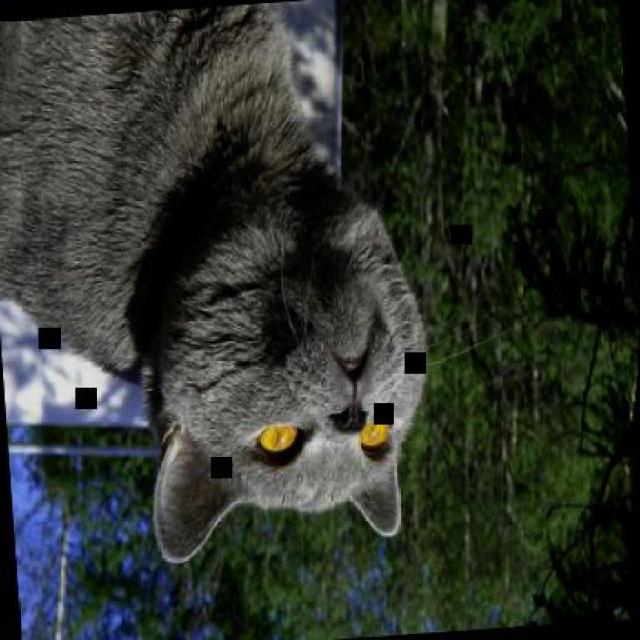cat: (0, 0, 443, 578)
